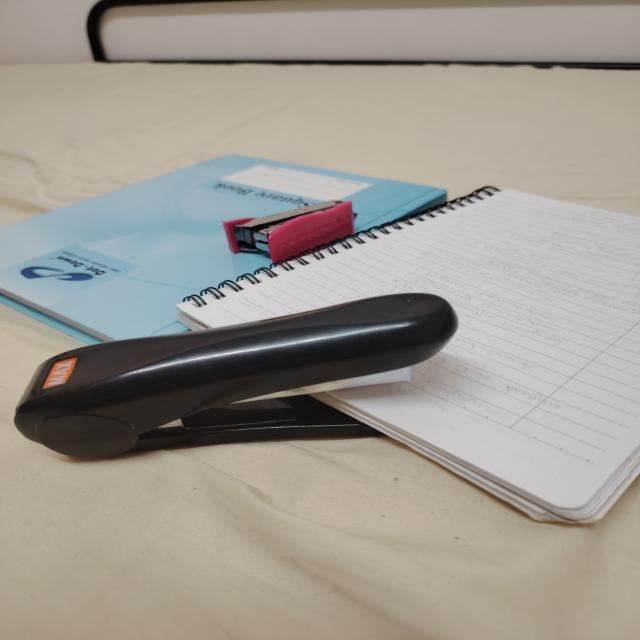stapler: (14, 294, 457, 458), (223, 200, 356, 262)
